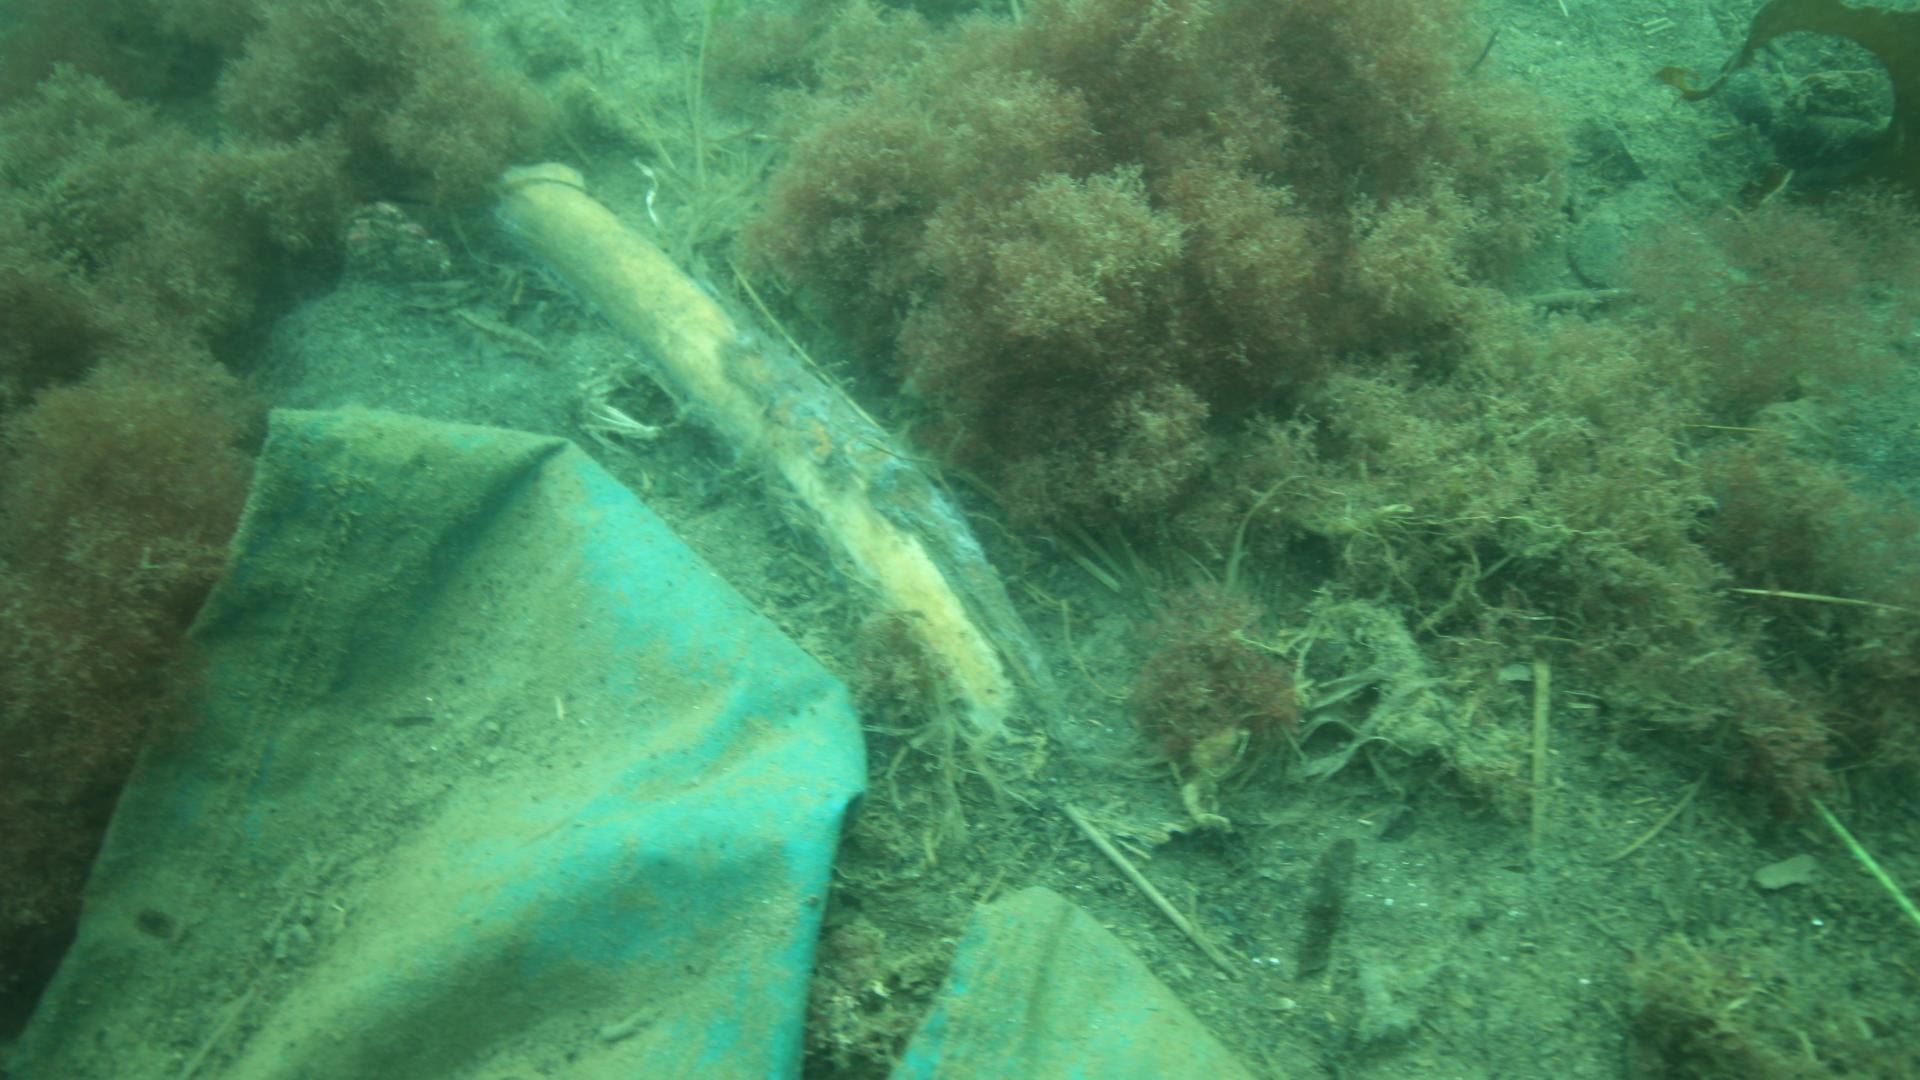wood: (497, 160, 1011, 711)
